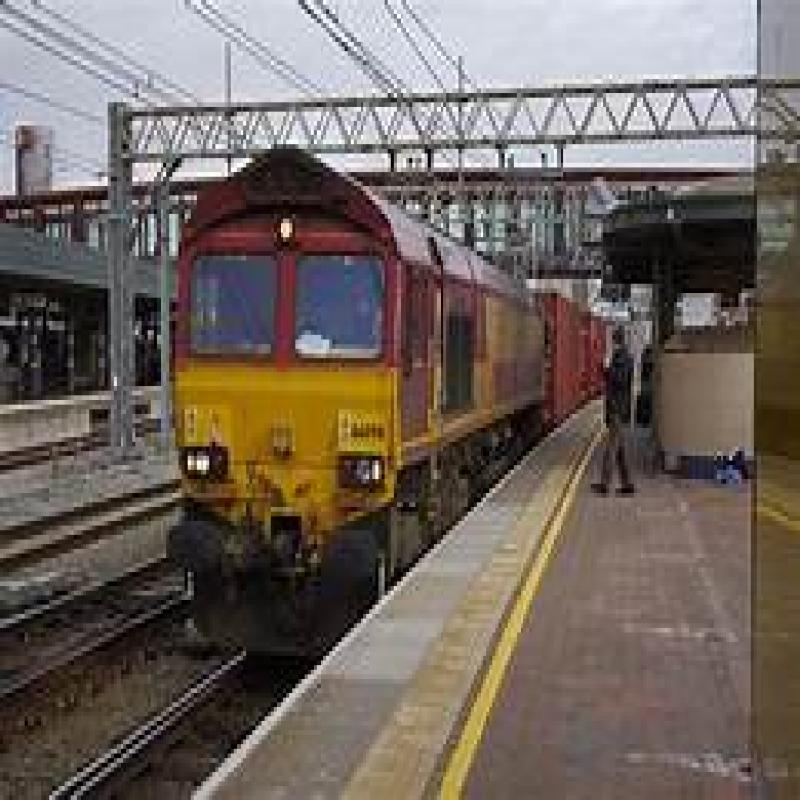train: (164, 173, 533, 522)
